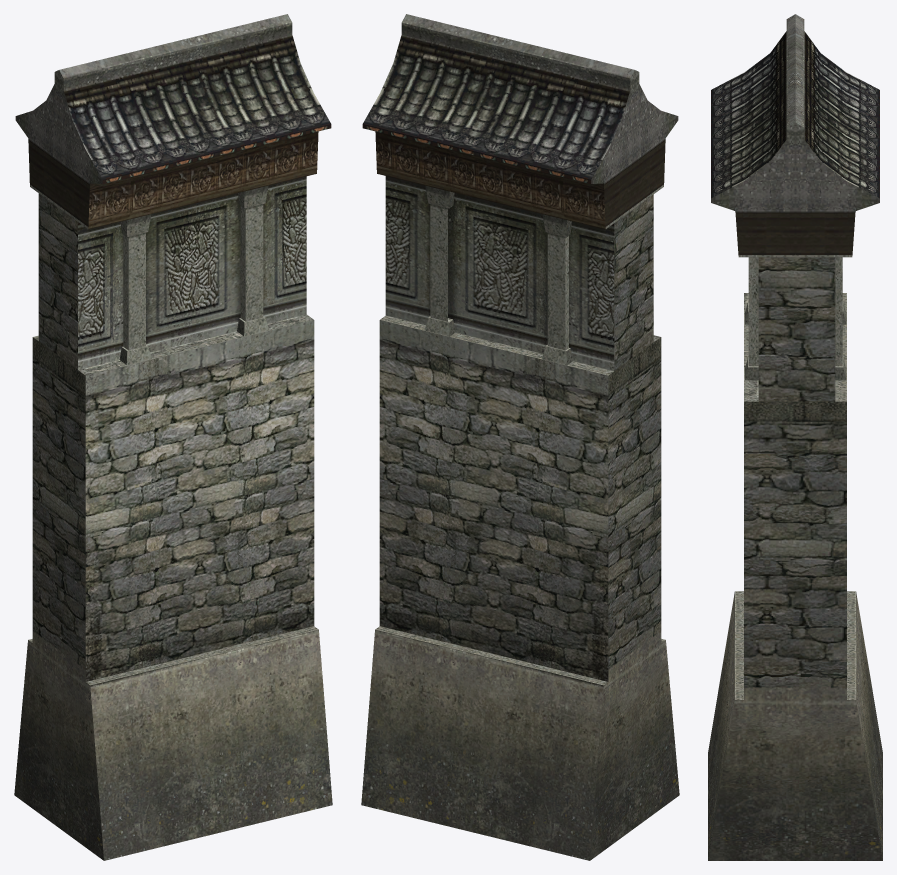
File: b1-middledam-04.fbx
3 renders of one model, left to right at view 1: azimuth 30°, elevation 25°; view 2: azimuth 150°, elevation 25°; view 3: azimuth 270°, elevation 25°, orthographic. The views are drawn at different scales.
Visible parts, largest first — view 1: b1-middledam-04; view 2: b1-middledam-04; view 3: b1-middledam-04.
Boxes of the visible parts, x1,y1,x2,y2 form: b1-middledam-04: (14,14,332,860); b1-middledam-04: (361,14,679,860); b1-middledam-04: (708,14,882,860).
Size of the model in its own units: 2.5 by 7.92 by 1.7.
